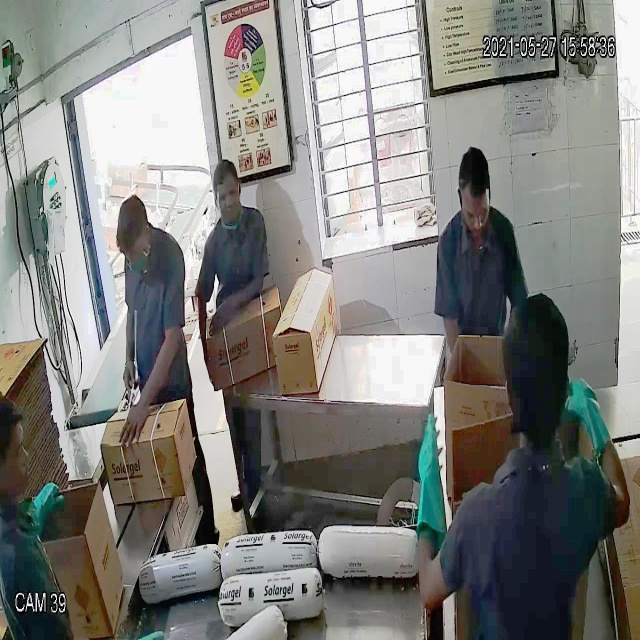Sin_gafas: (458, 197, 496, 226), (210, 182, 246, 208)
